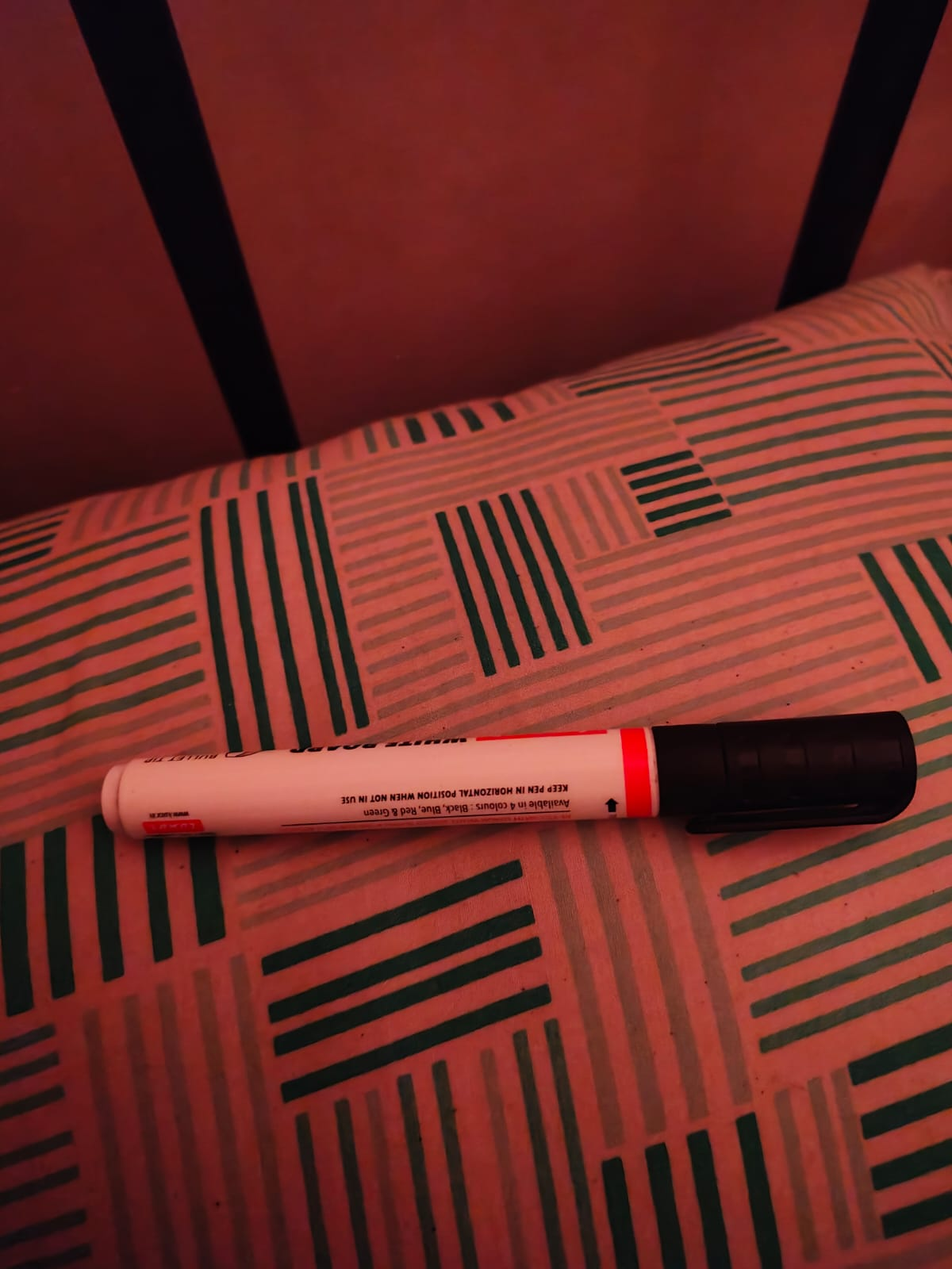case: (84, 695, 918, 871)
